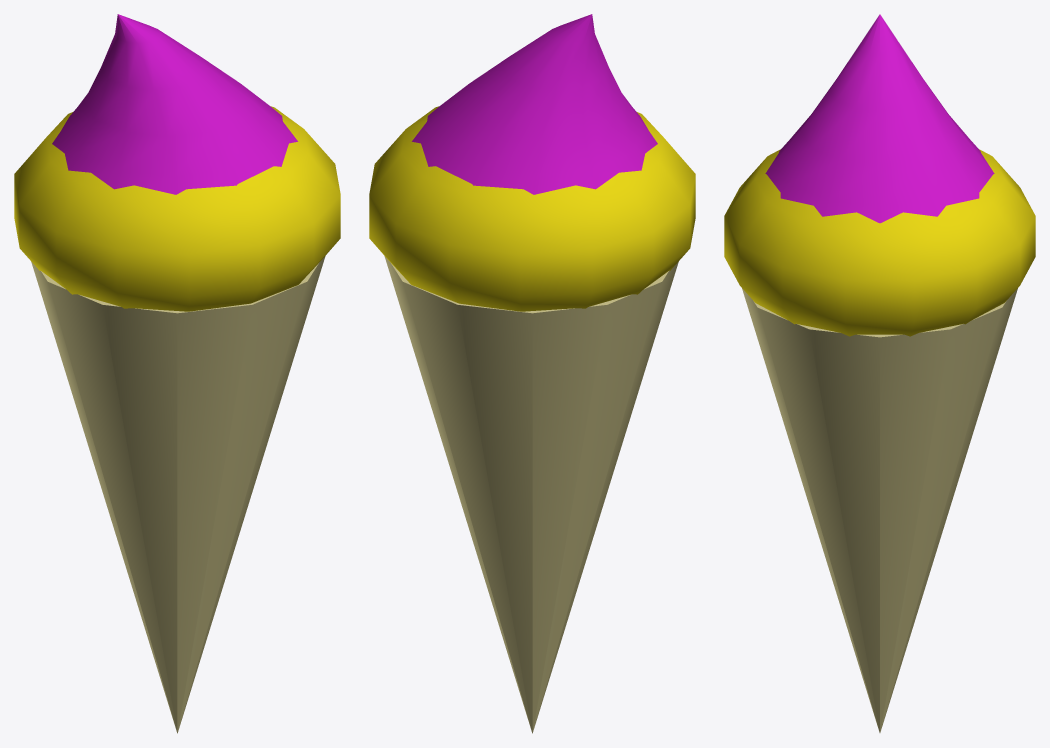
Rendered from Kem.FBX.
3 renders of one model, left to right at view 1: azimuth 30°, elevation 25°; view 2: azimuth 150°, elevation 25°; view 3: azimuth 270°, elevation 25°, orthographic. The views are drawn at different scales.
Parts seen in each view (by area): view 1: Kem, Sphere008, Cone003; view 2: Kem, Sphere008, Cone003; view 3: Kem, Sphere008, Cone003.
Boxes of the visible parts, box(x1,y1,x2,y2) form: Kem: box(31, 256, 325, 733); Sphere008: box(14, 106, 340, 311); Cone003: box(52, 14, 297, 194); Kem: box(384, 256, 678, 733); Sphere008: box(369, 106, 695, 311); Cone003: box(412, 14, 657, 194); Kem: box(742, 288, 1017, 732); Sphere008: box(724, 149, 1035, 336); Cone003: box(765, 14, 994, 223).
Size of the model in its own units: 0.4608 by 1.16 by 0.4727.
